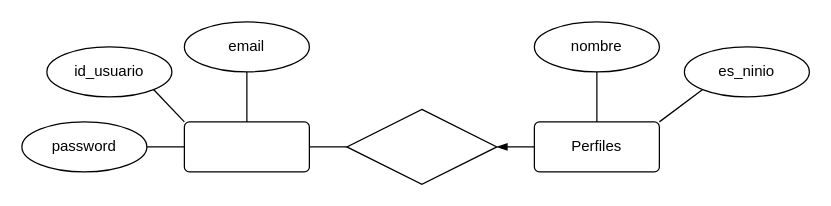
Some shapes in this 831 by 206 pixel diagram are drawn without their labels. Each missing label, with the centre of its shape:
"perfiles_usuarios" goes at point (421, 146).
"Usuarios" goes at point (246, 146).
